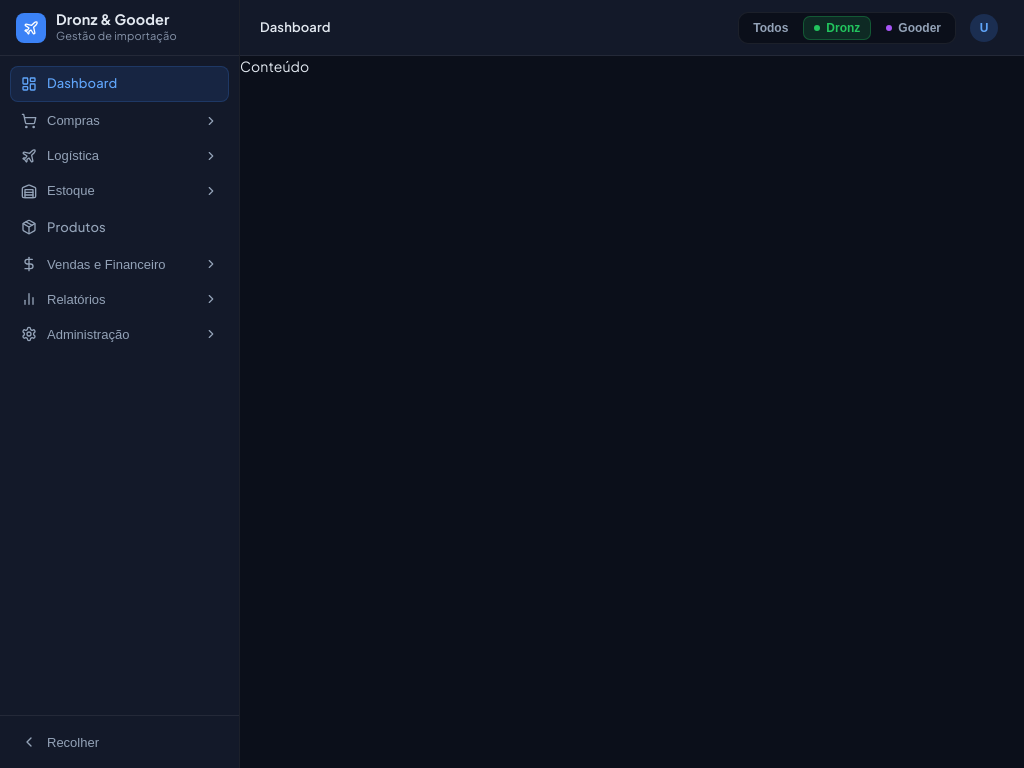
lateral no desktop › começa aberta, recolhe e reabre ao escolher um grupo com submenu
Click the button with aria-label "Recolher menu lateral" at (120, 742), box [10,726,229,758]
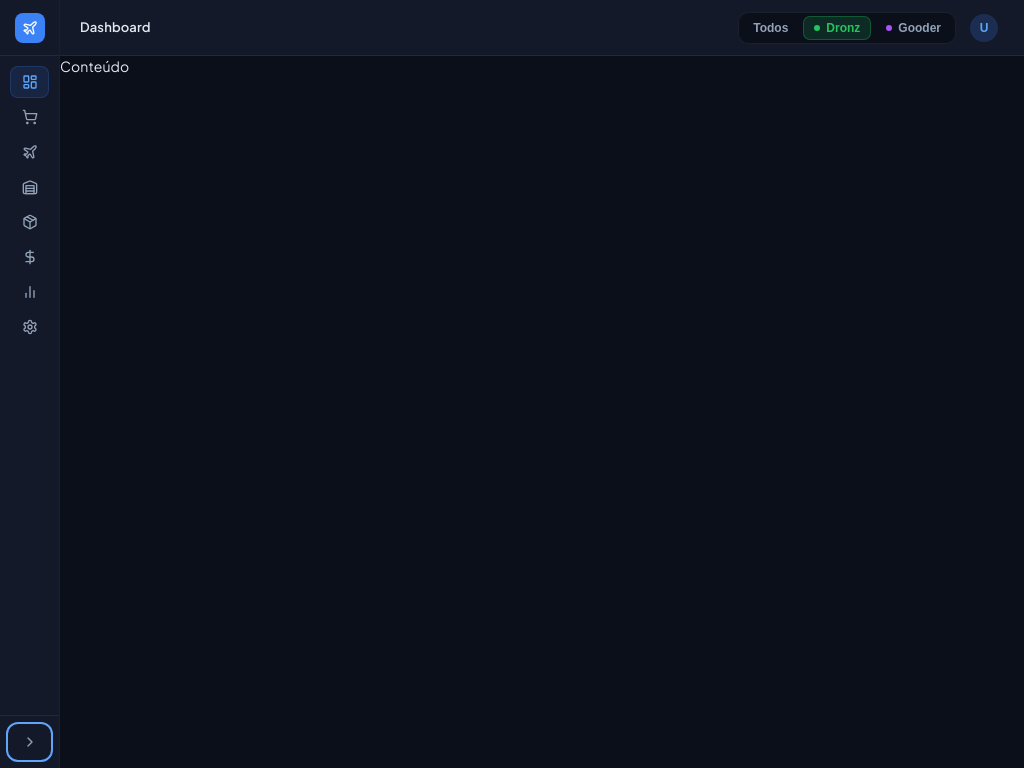
Expected: the button named "Expandir menu lateral" is shown, [10,726,49,758]
Expected: the text "Compras" is gone
Click the button named "Compras" at (30, 117), box [10,101,49,133]
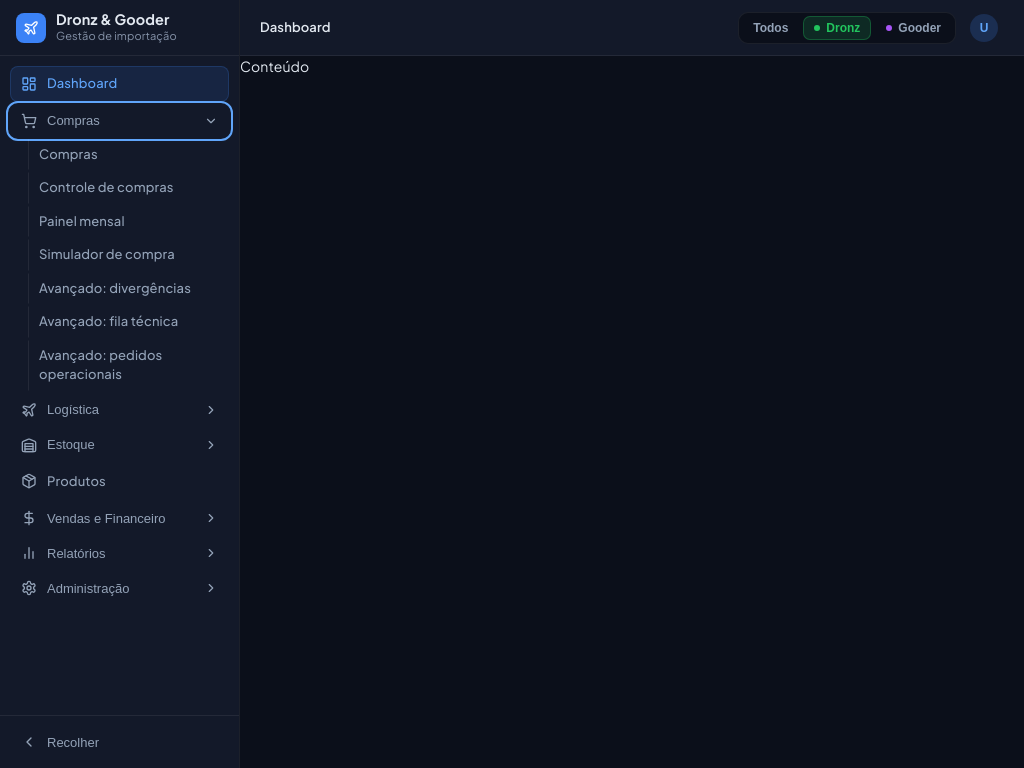
Expected: the button with aria-label "Recolher menu lateral" is shown, [10,726,229,758]
Expected: the link "Compras" is shown, [28,138,229,170]
Expected: the button "Compras" is expanded, [10,104,229,136]
